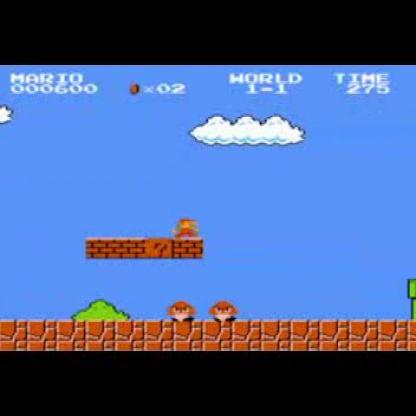Goomba: (166, 296, 201, 322), (210, 297, 238, 320)
